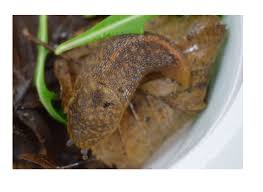slug: (71, 30, 172, 153)
